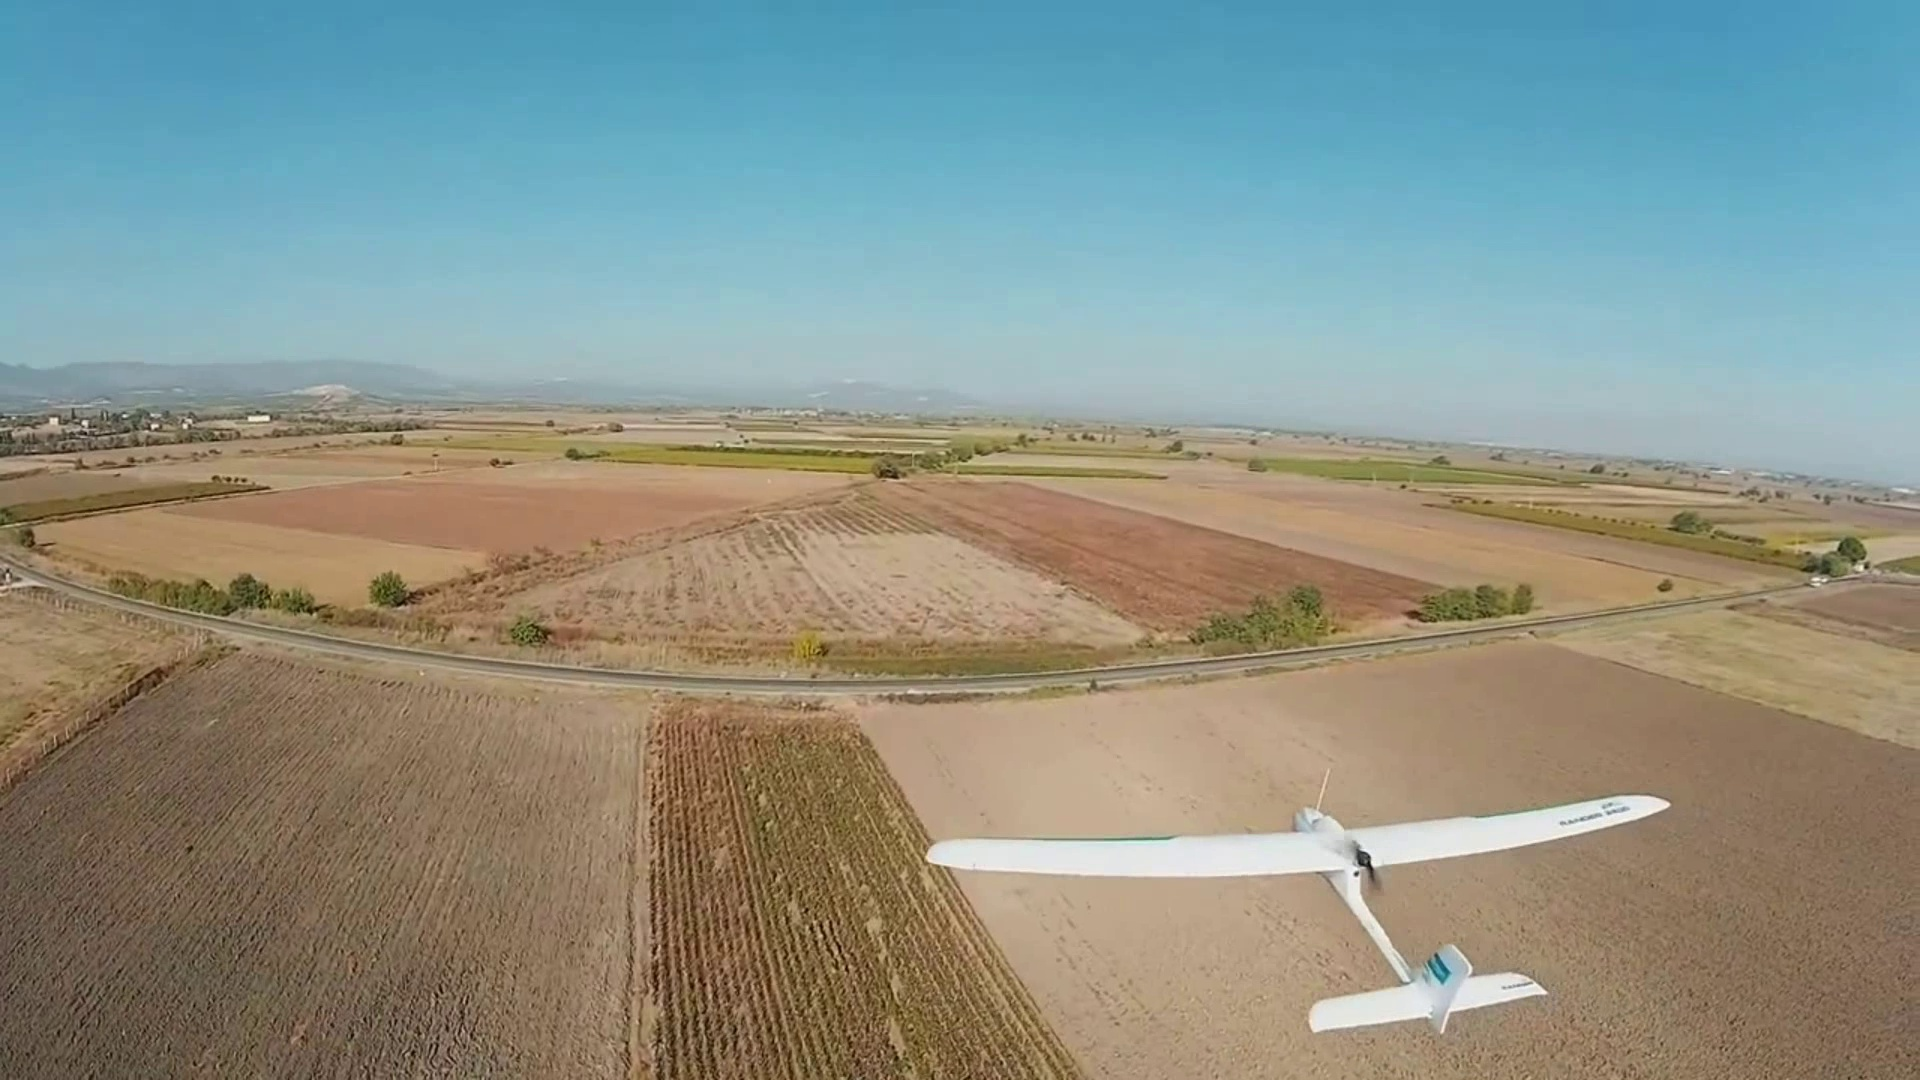airplane: (927, 793, 1669, 1035)
